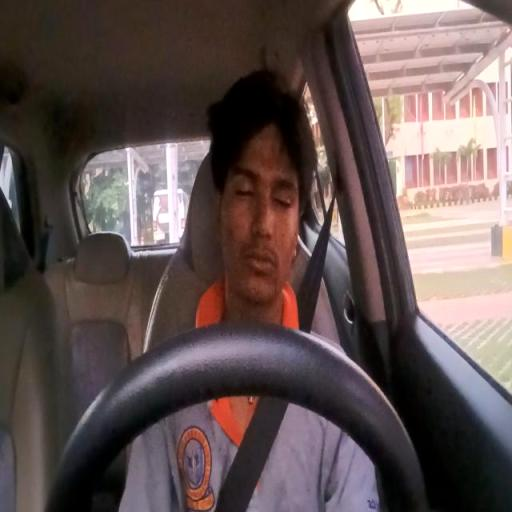sleepy: (212, 72, 318, 311)
